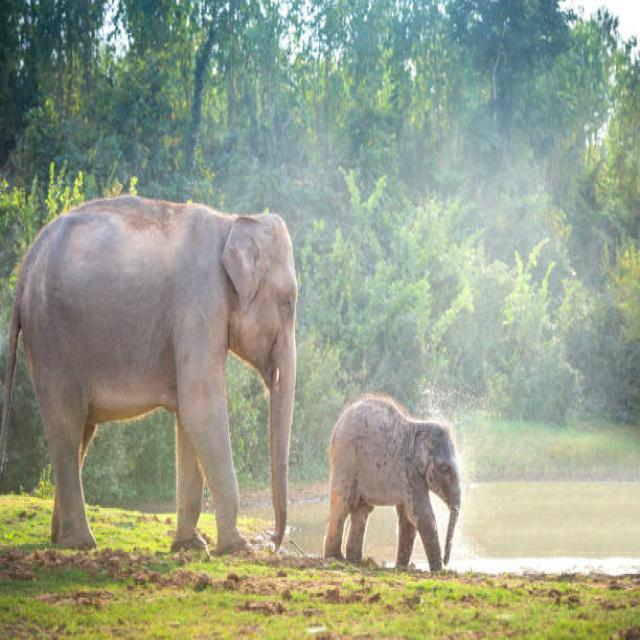Elephant: (0, 196, 299, 565), (324, 385, 474, 574)
